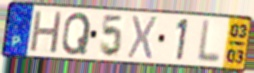1: (175, 17, 191, 63)
5: (97, 13, 126, 58)
H: (28, 9, 65, 55)
L: (195, 18, 223, 66)
Q: (60, 11, 93, 57)
X: (125, 14, 160, 62)
